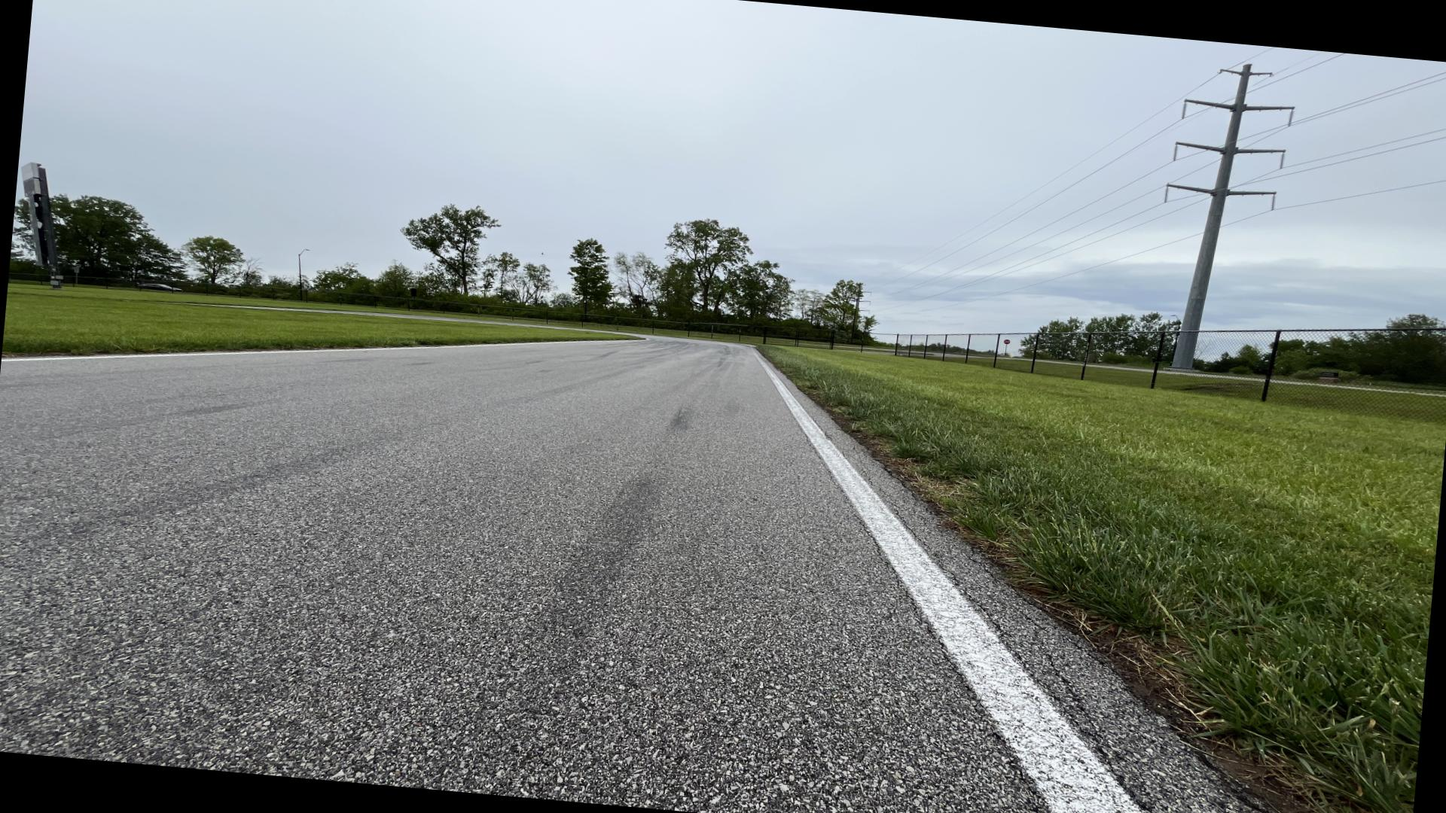white-line: (703, 339, 1135, 812), (2, 333, 649, 362)
